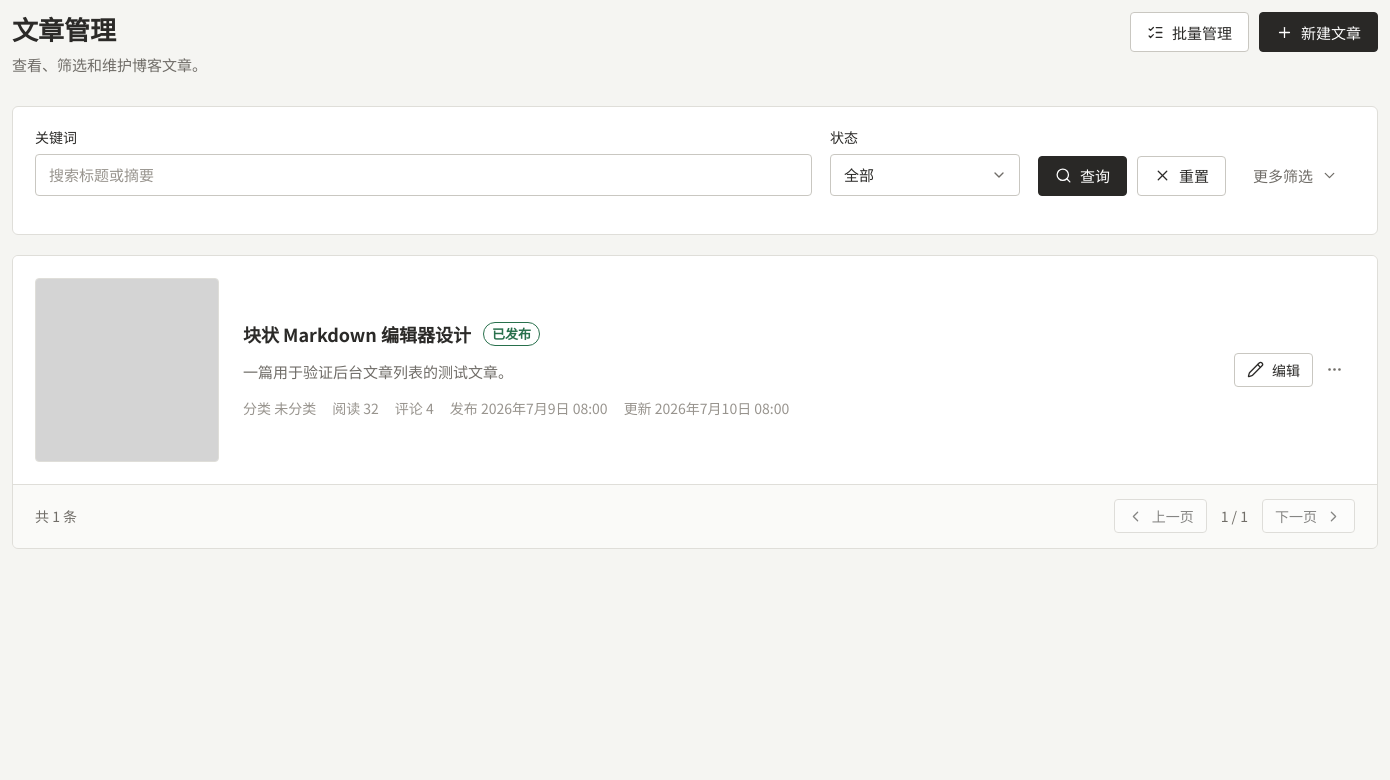
后台文章列表页 › 筛选无结果时应显示没有找到符合条件的文章并提供重置入口
Check: the heading "块状 Markdown 编辑器设计" is shown, box [243,322,471,347]
In the field labelled "关键词": (424,174) [36,154,811,194], type "不存在"
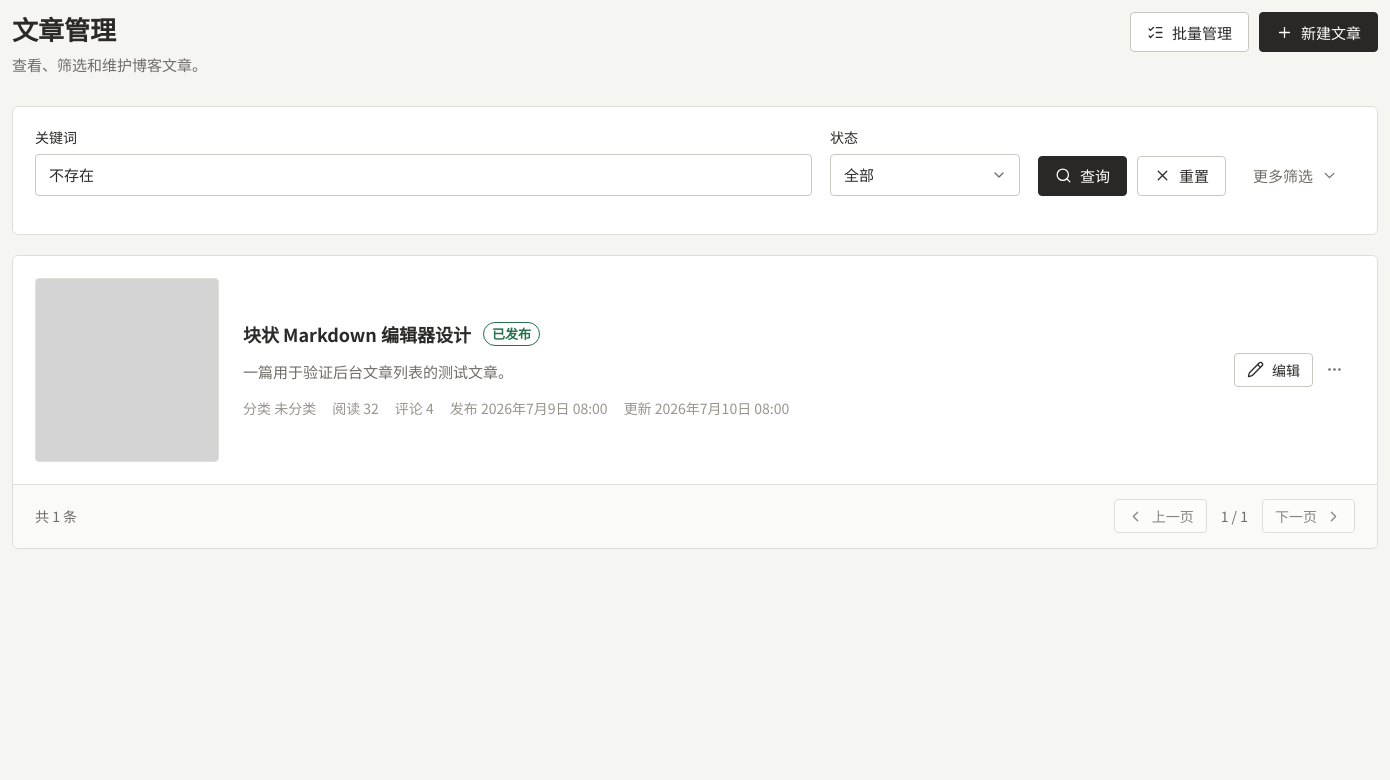
Click the button "查询": (1082,176) [1038,156,1127,196]
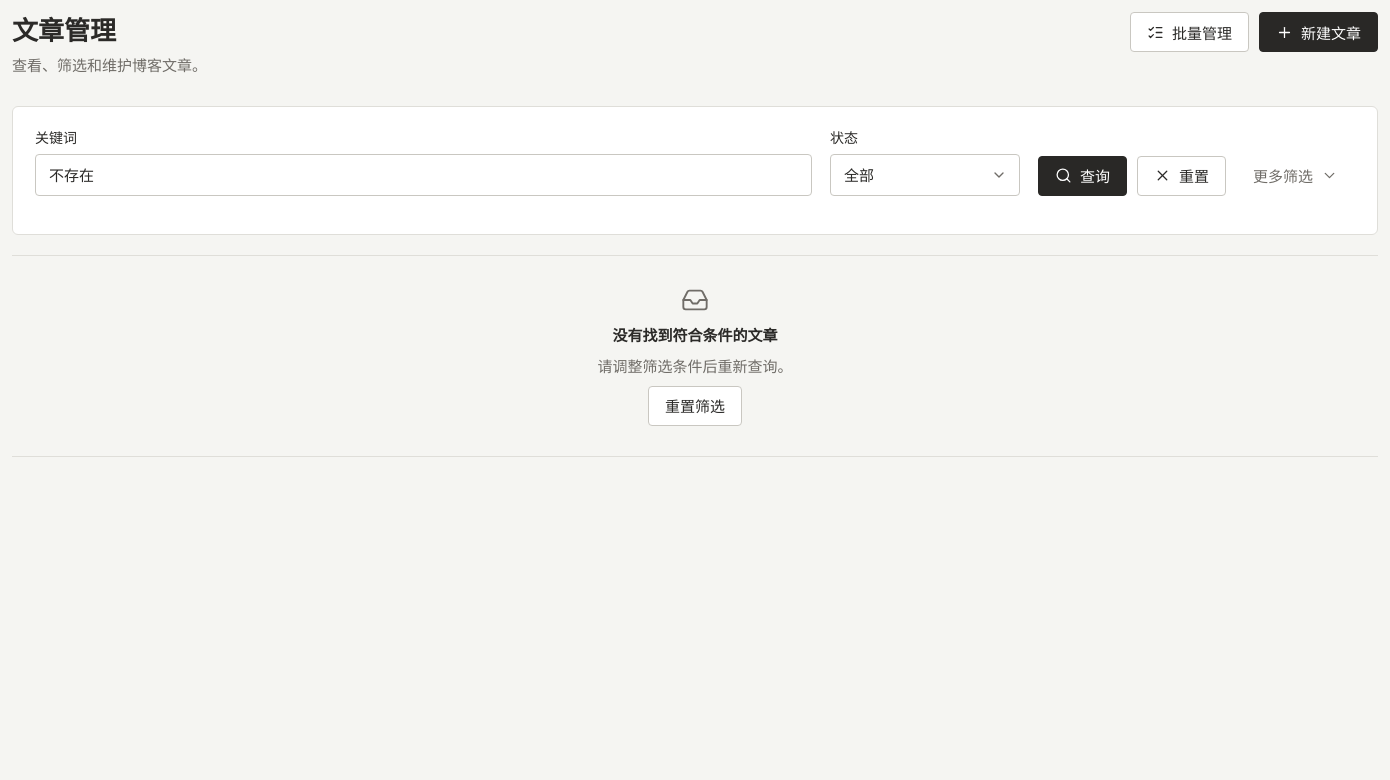
Check: the text "没有找到符合条件的文章" is shown, box [612,324,778,344]
Check: the button "重置筛选" is shown, box [648,386,742,426]
